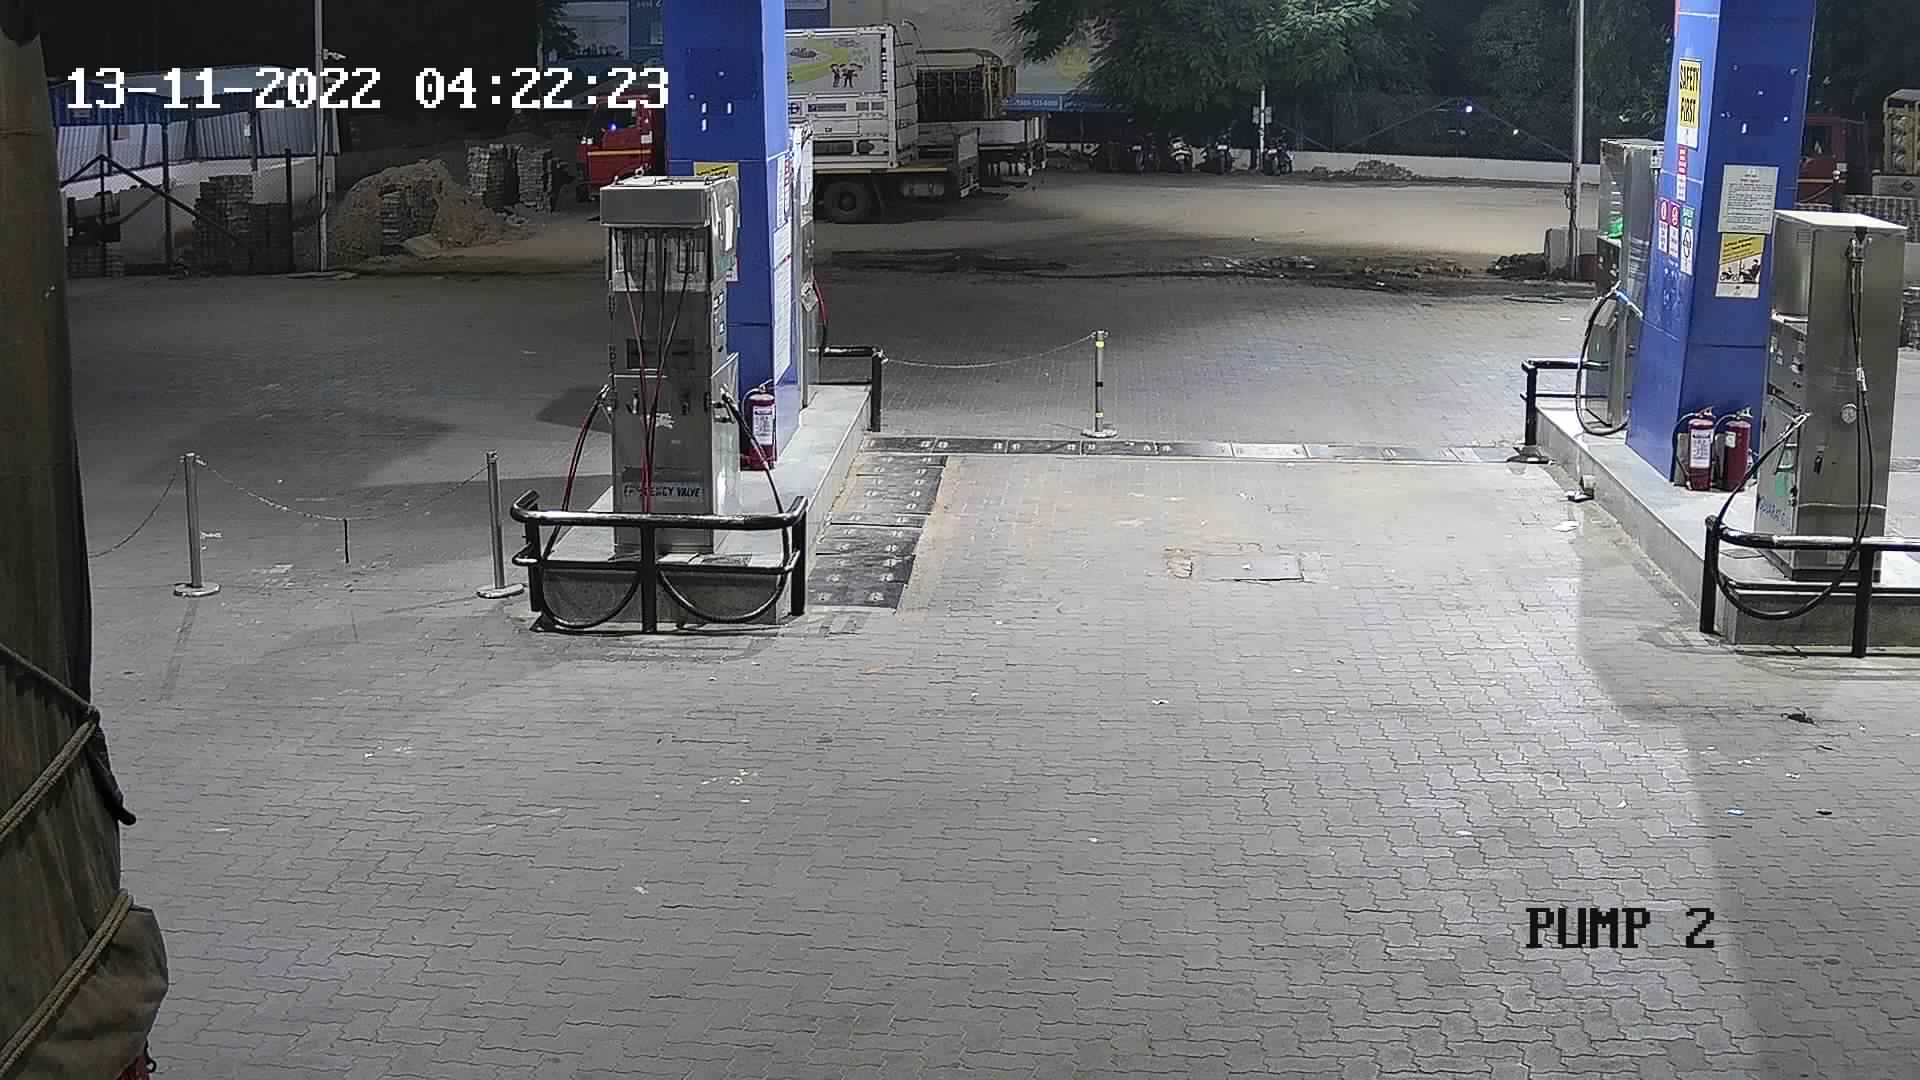Bike: (1251, 117, 1298, 189), (1113, 116, 1166, 177), (1203, 111, 1242, 177), (1160, 113, 1199, 177)
HMV: (3, 1, 179, 1077), (767, 13, 996, 225), (899, 34, 1059, 204), (1774, 69, 1917, 236)
